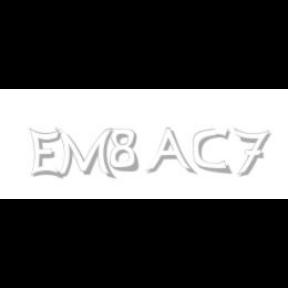7: (234, 128, 272, 178)
8: (110, 128, 138, 172)
A: (145, 128, 193, 176)
C: (194, 128, 231, 174)
E: (29, 128, 62, 180)
M: (55, 128, 114, 180)
